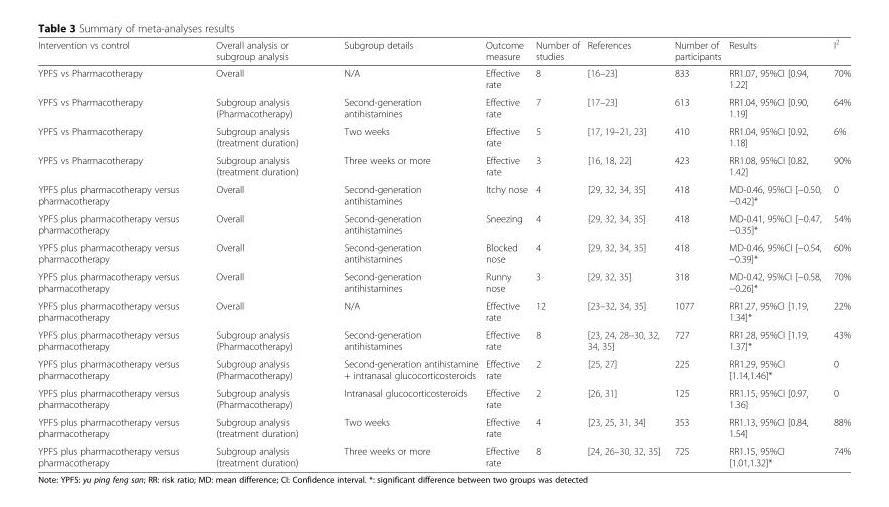table: (38, 37, 851, 467)
table column: (321, 37, 482, 467), (38, 37, 197, 467), (197, 37, 321, 467), (725, 37, 827, 467), (584, 37, 667, 467), (667, 37, 725, 467), (531, 37, 584, 467), (482, 37, 531, 467), (827, 37, 851, 467)
table column header: (38, 37, 851, 64)
table row: (38, 208, 851, 238), (38, 92, 851, 121), (38, 121, 851, 150), (38, 150, 851, 179), (38, 179, 851, 208), (38, 238, 851, 267), (38, 267, 851, 296), (38, 296, 851, 325), (38, 325, 851, 354), (38, 354, 851, 383), (38, 383, 851, 412), (38, 412, 851, 441), (38, 64, 851, 92), (38, 37, 851, 64), (38, 441, 851, 467)
